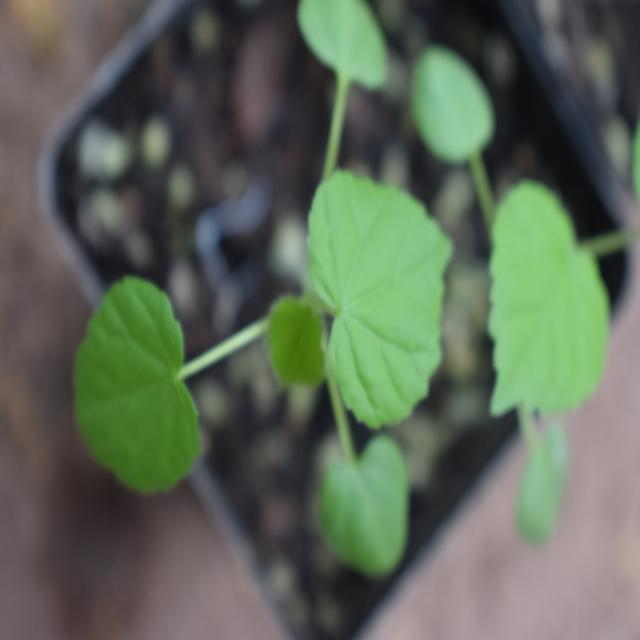abutilon theophrasti: (90, 60, 464, 562)
